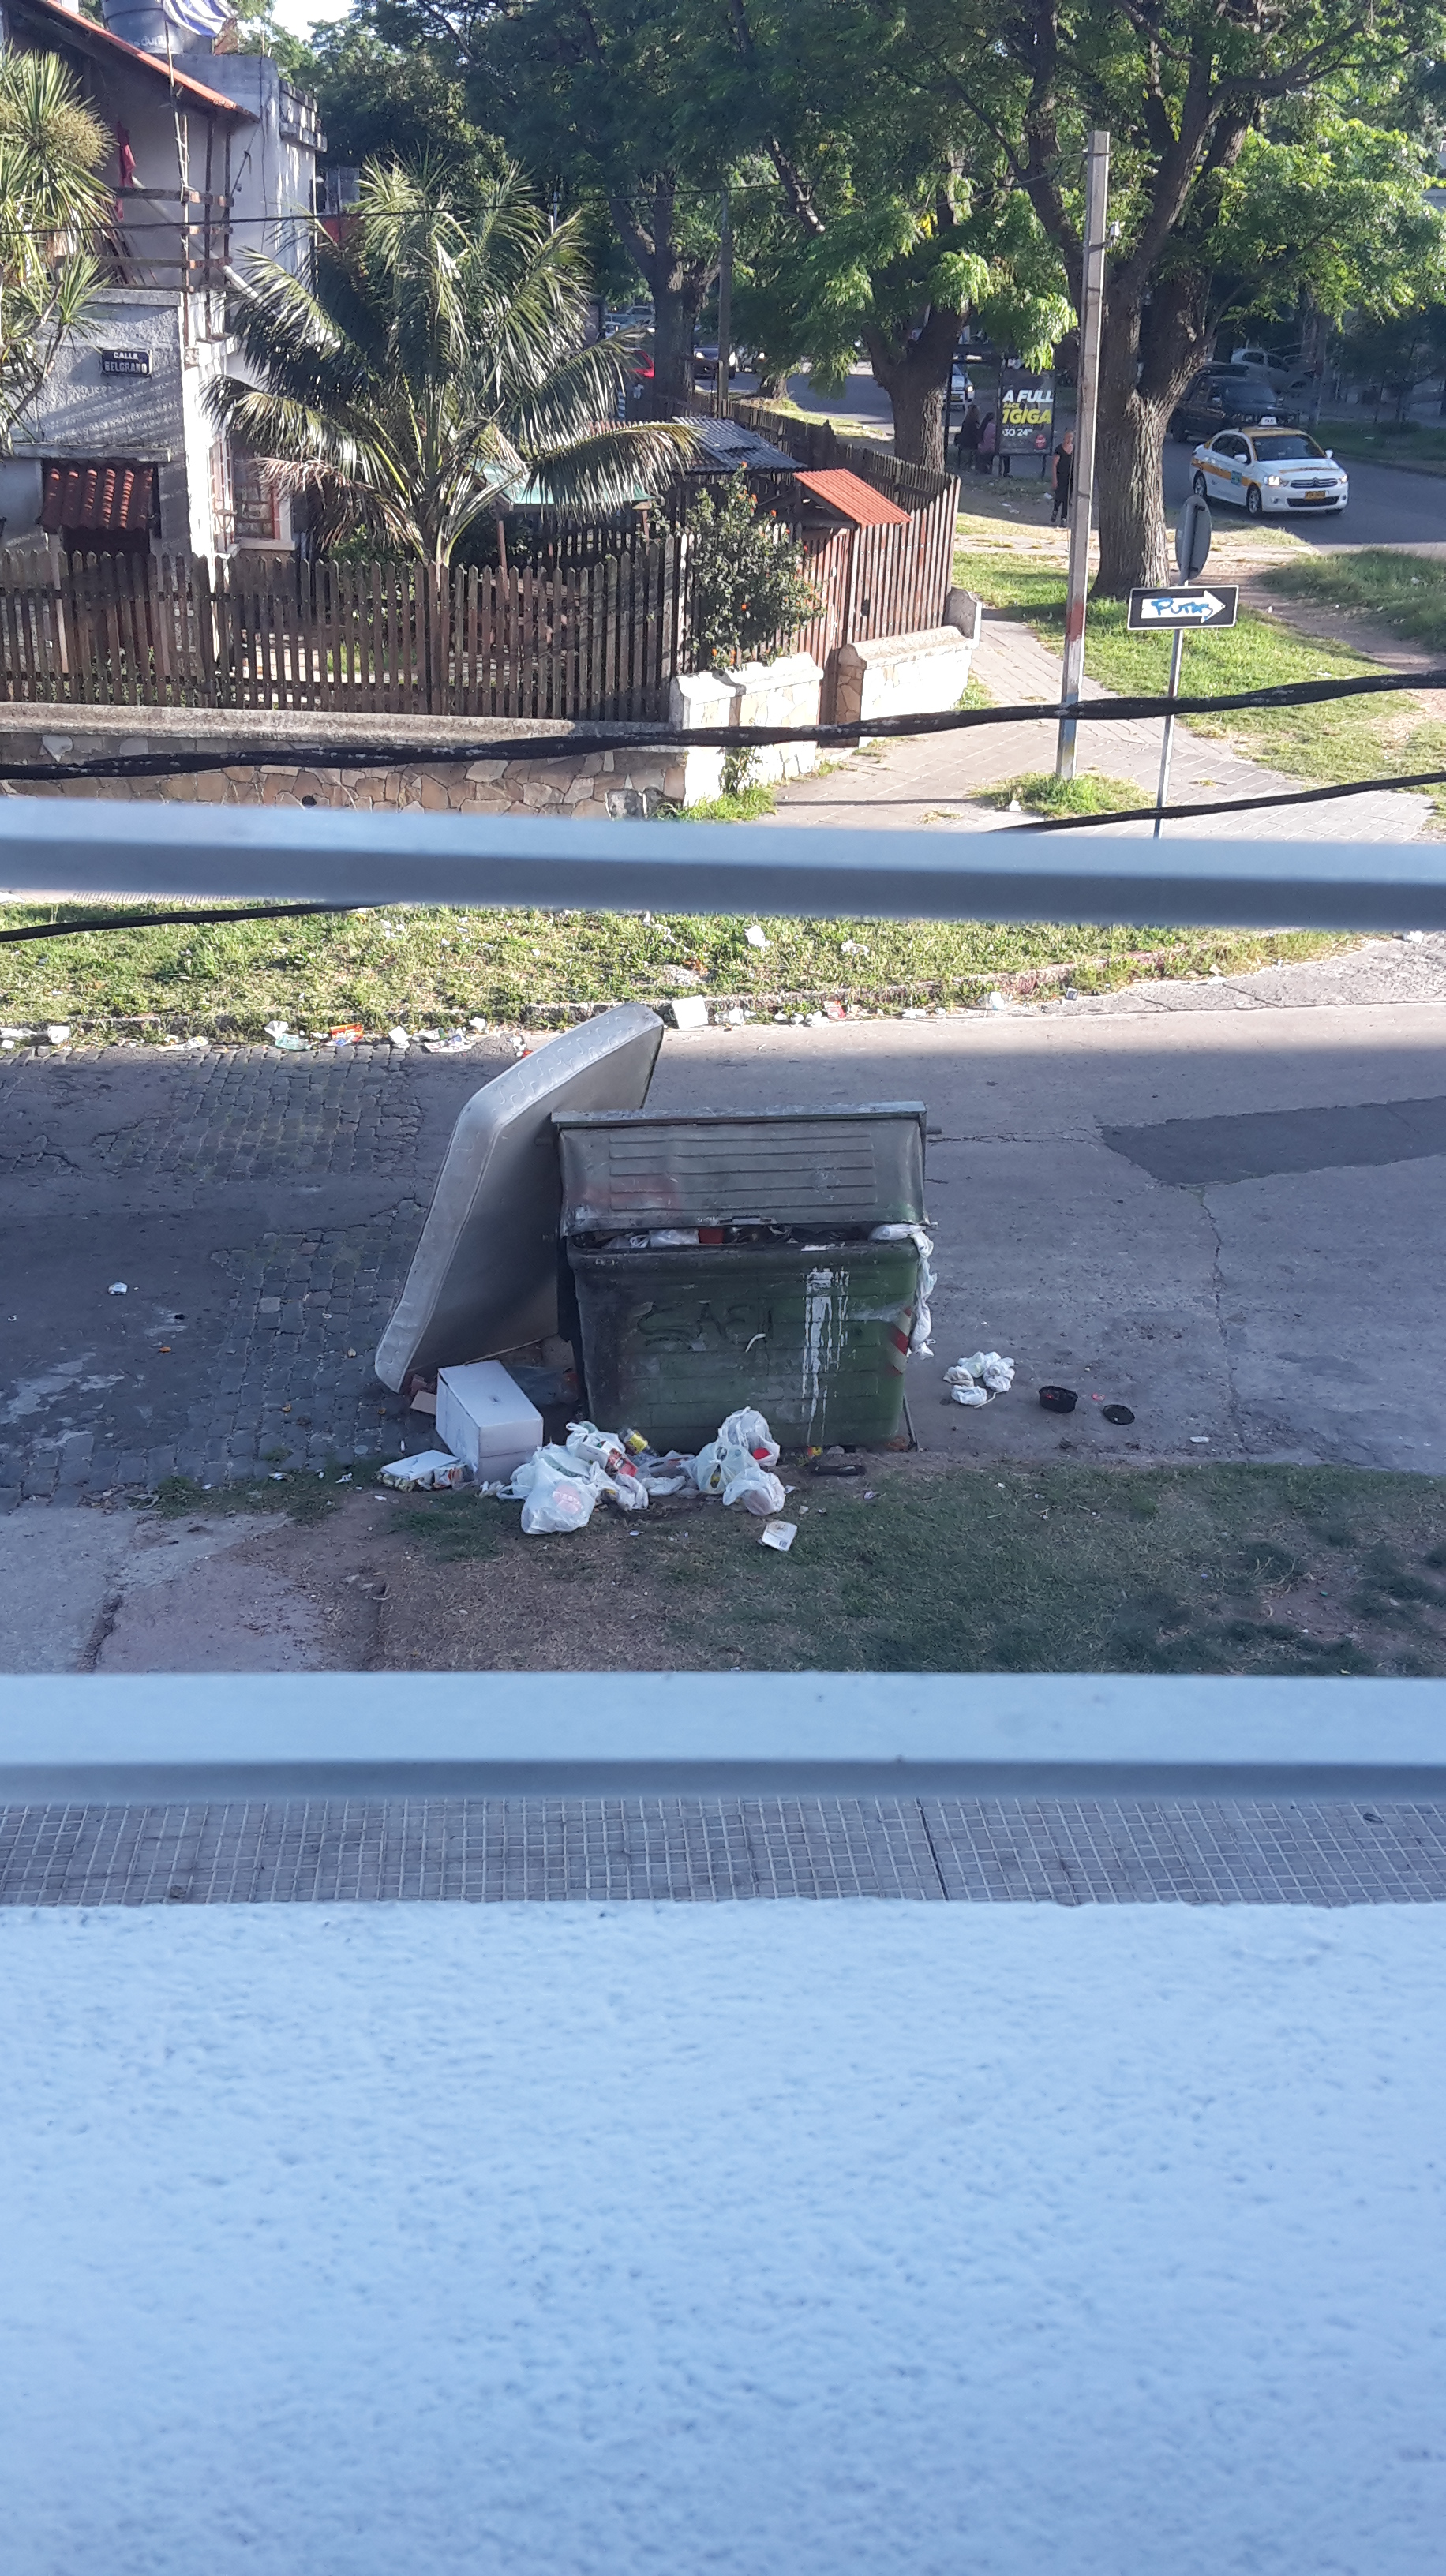container: (558, 1123, 920, 1456)
